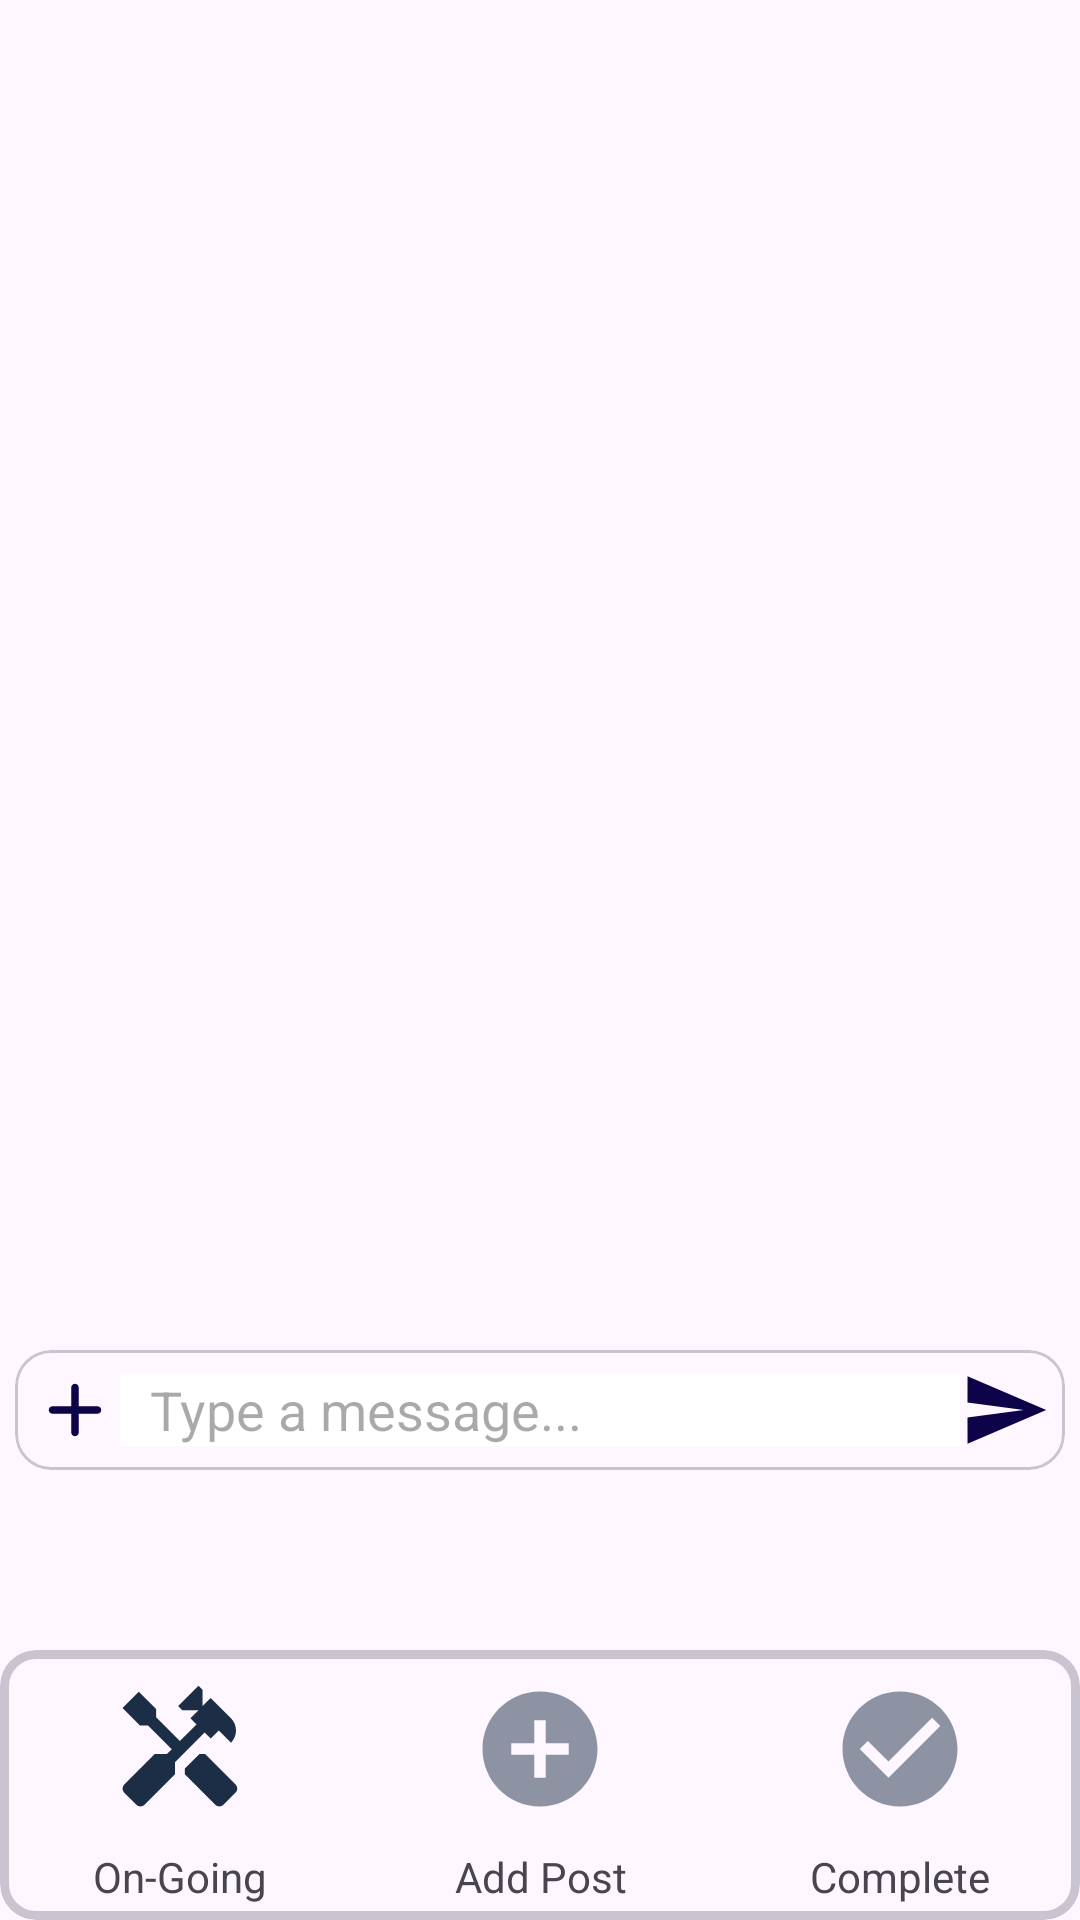

Named icons in this screenshot (1080 × 1920) and their bounding boxes, [x1, y1, x2, y2]:
addpicmsg: [48, 1383, 102, 1437]
repair: [122, 1686, 238, 1807]
sendmsg: [967, 1376, 1046, 1444]
